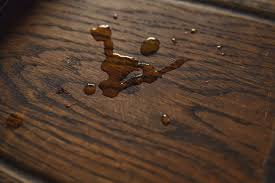Wet-floor: (78, 17, 226, 129), (66, 11, 196, 74), (136, 24, 201, 133), (83, 43, 171, 110)
